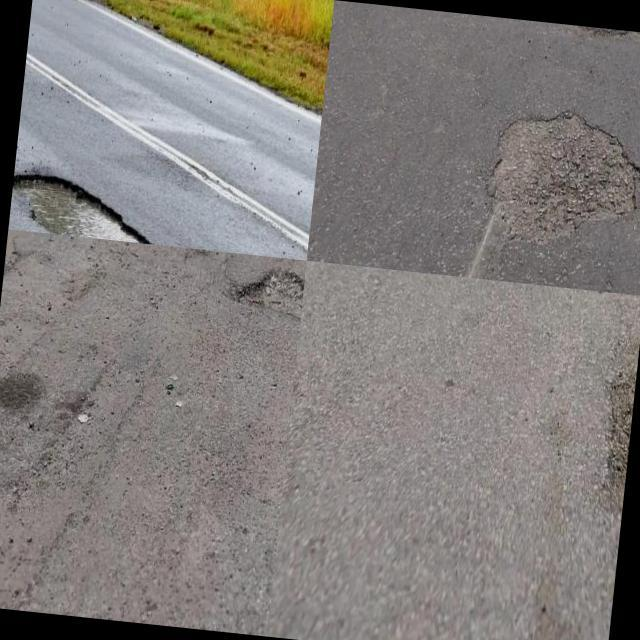Pothole: (494, 113, 634, 224), (12, 172, 157, 245), (604, 377, 636, 518), (234, 260, 304, 324)
